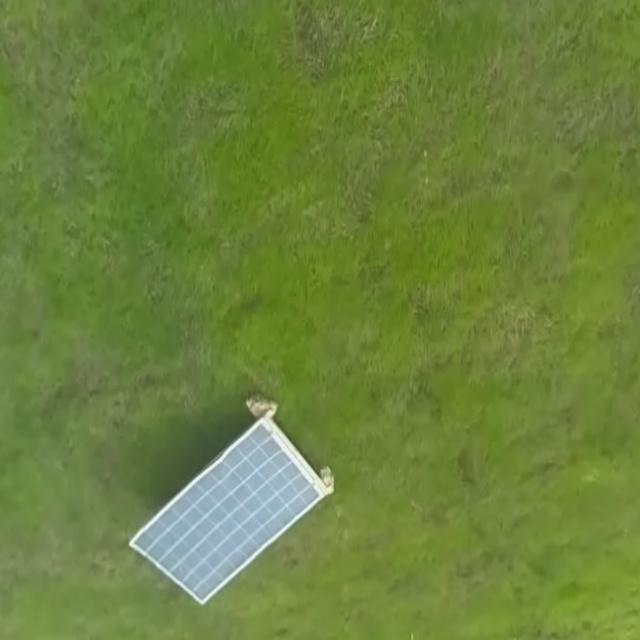no faulty: (130, 419, 326, 612)
